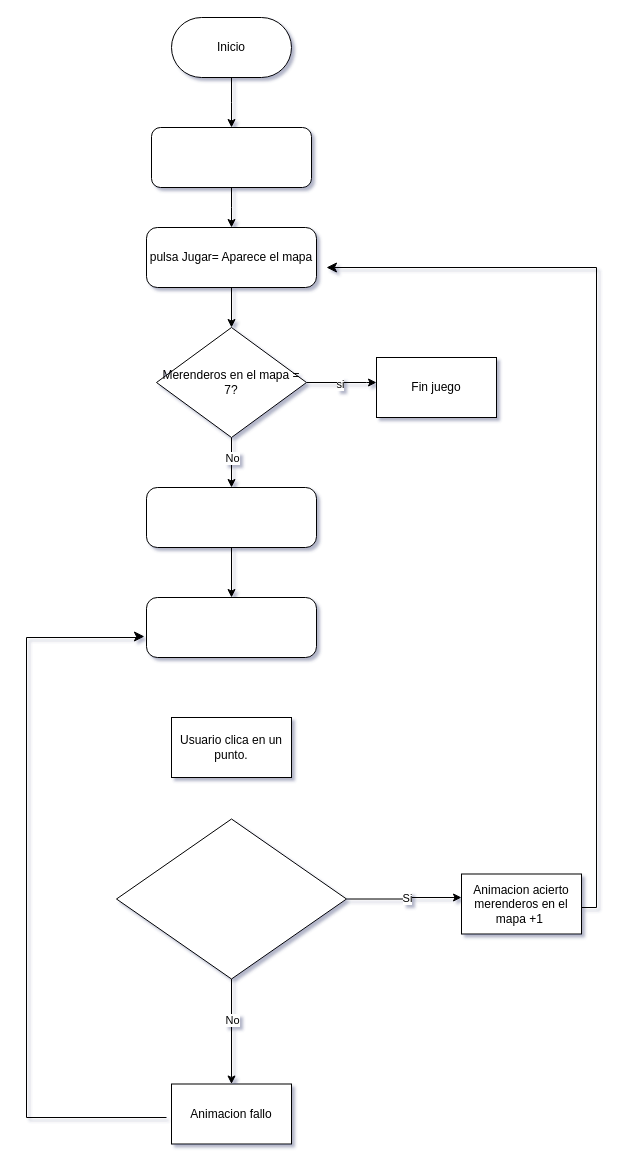
The diagram is 630 pixels wide and 1168 high, and some of its shapes have lost their labels. The shapes that lost their labels are listed below. From the top down, each one's centre as x and y in pixels, then its label:
At (x=231, y=157): "Mostrar Pantalla de Inicio".
At (x=231, y=517): "Busca nuevo destino...(Menos tiempo en cada vuelta)".
At (x=231, y=627): "Punto inicial, temporizador on. (1min para encontrar ruta mas corta)".
At (x=231, y=898): "Has encontrado el merendero mas cercano, desde el punto en el que estas?".
